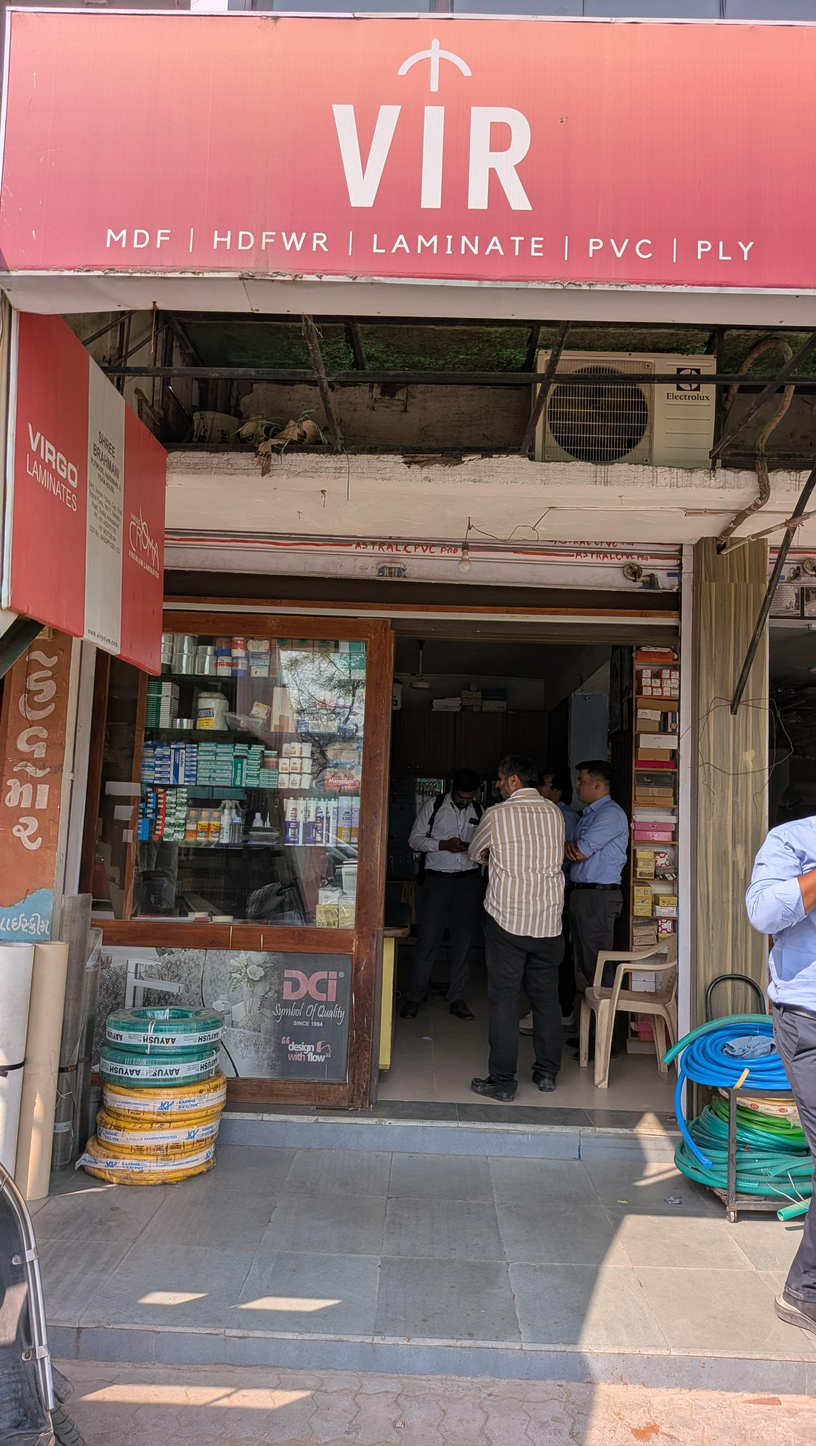BONDTITE_SUPER STRENGTH: (140, 774, 154, 783), (141, 758, 156, 766), (141, 767, 154, 775)
